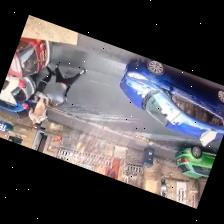person: (38, 63, 86, 107), (31, 65, 55, 101), (29, 98, 47, 124), (55, 84, 72, 107)
